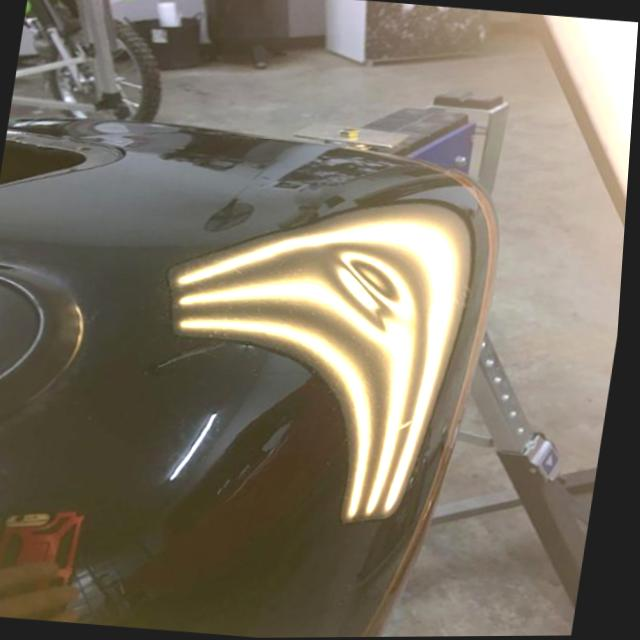PDR-Dent: (311, 232, 433, 350)
